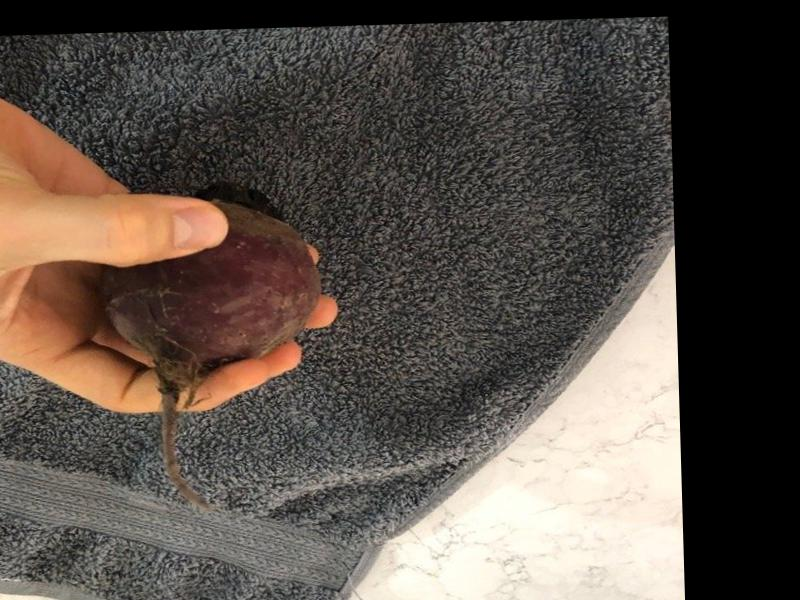Beet: (98, 180, 326, 513)
